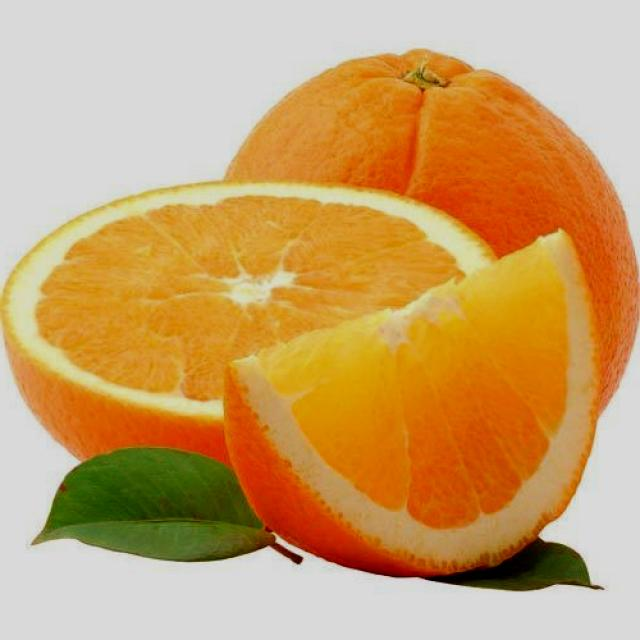orange: (206, 47, 636, 510)
